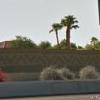Palm tree: (47, 13, 83, 55)
